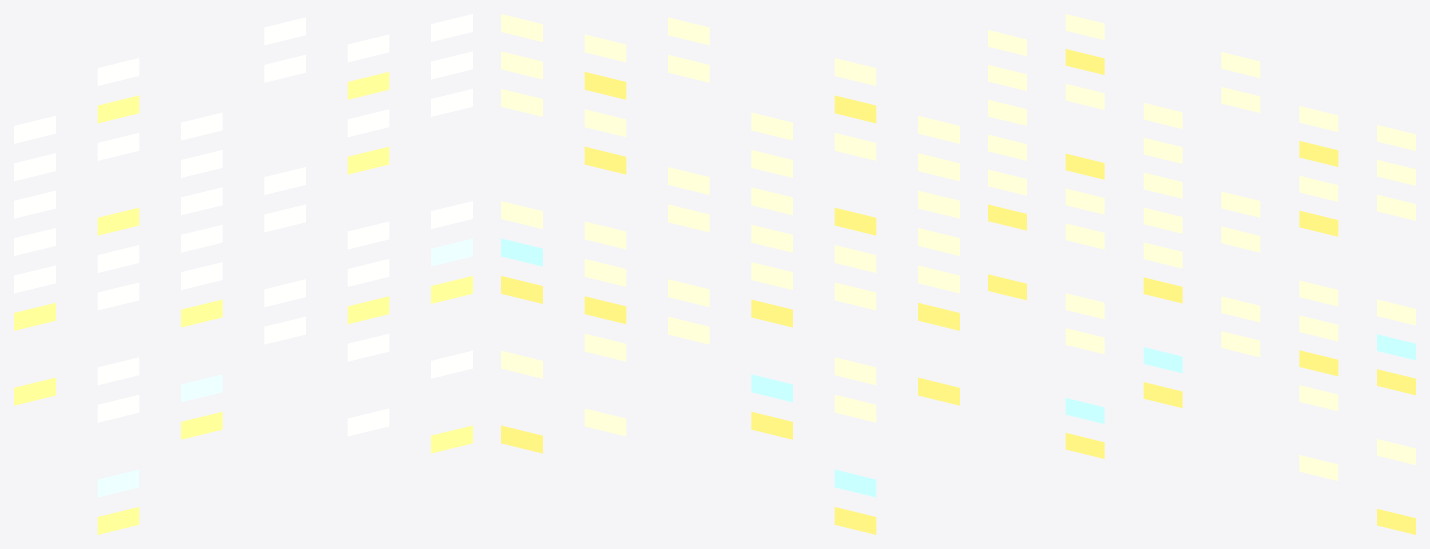
Rendered from window-lights-14.glb.
3 views of the same model, side by side, from view 1: azimuth 30°, elevation 25°; view 2: azimuth 150°, elevation 25°; view 3: azimuth 330°, elevation 25° (orthographic). The views are drawn at different scales.
Visible parts, largest first — view 1: window warm, window amber, window tv; view 2: window warm, window amber, window tv; view 3: window warm, window amber, window tv.
Boxes of the visible parts, x1=… form: window warm: x1=14, y1=14, x2=472, y2=436; window amber: x1=14, y1=72, x2=472, y2=534; window tv: x1=97, y1=238, x2=472, y2=497; window warm: x1=501, y1=14, x2=959, y2=436; window amber: x1=501, y1=72, x2=959, y2=534; window tv: x1=501, y1=238, x2=876, y2=497; window warm: x1=988, y1=14, x2=1415, y2=480; window amber: x1=988, y1=49, x2=1415, y2=534; window tv: x1=1065, y1=334, x2=1415, y2=423.
Bounding box in the file's own units: 0.9167 × 0.8914 × 0.
